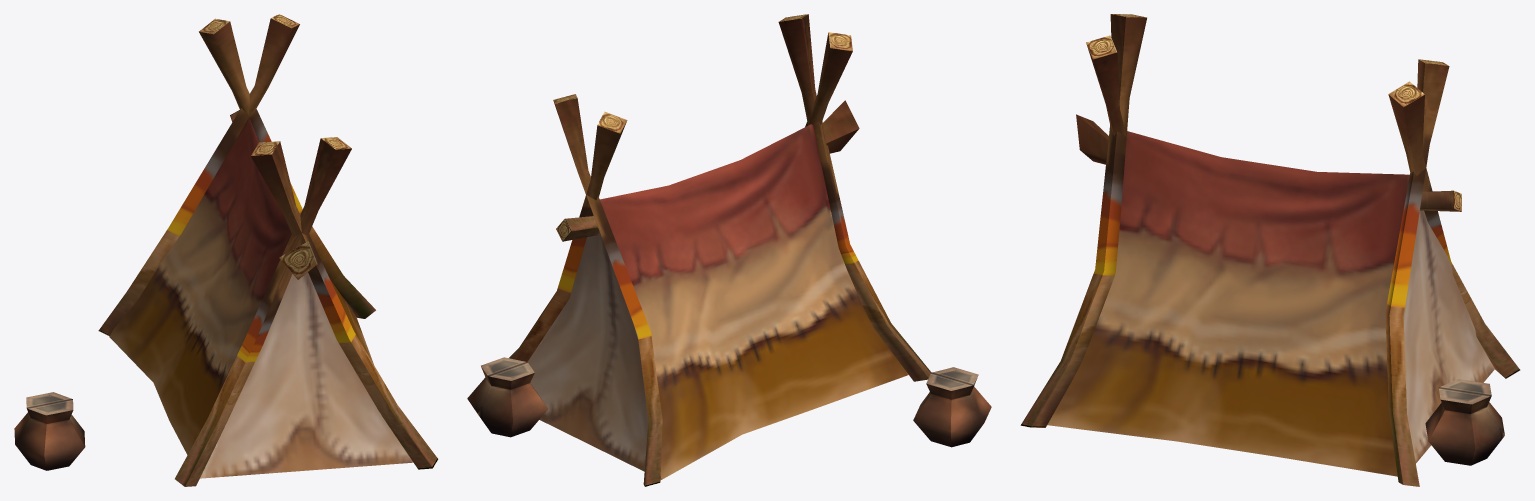
3 views of the same model, side by side, from view 1: azimuth 30°, elevation 25°; view 2: azimuth 150°, elevation 25°; view 3: azimuth 270°, elevation 25° (orthographic). The views are drawn at different scales.
Parts seen in each view (by area): view 1: 对象003; view 2: 对象003; view 3: 对象003.
Part boxes in pixels (x1,y1,x2,y2): 对象003: (14,14,438,486); 对象003: (467,14,991,486); 对象003: (1020,14,1520,486).
Size of the model in its own units: 1136 by 1032 by 811.
